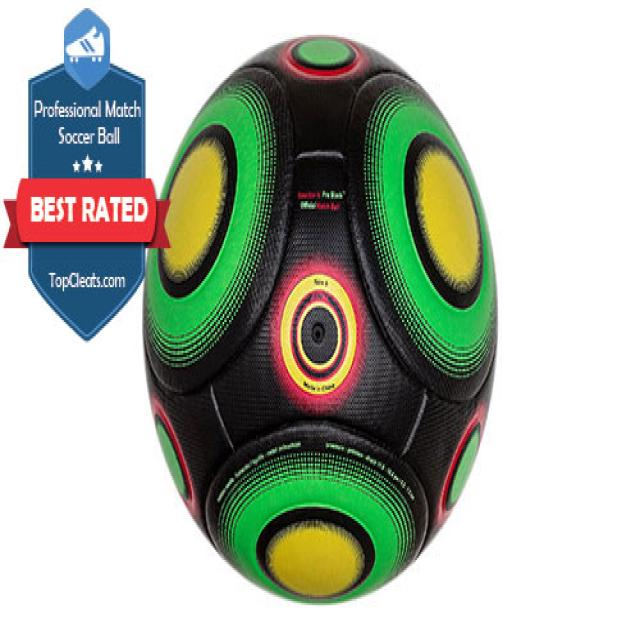soccer ball: (143, 33, 500, 605)
